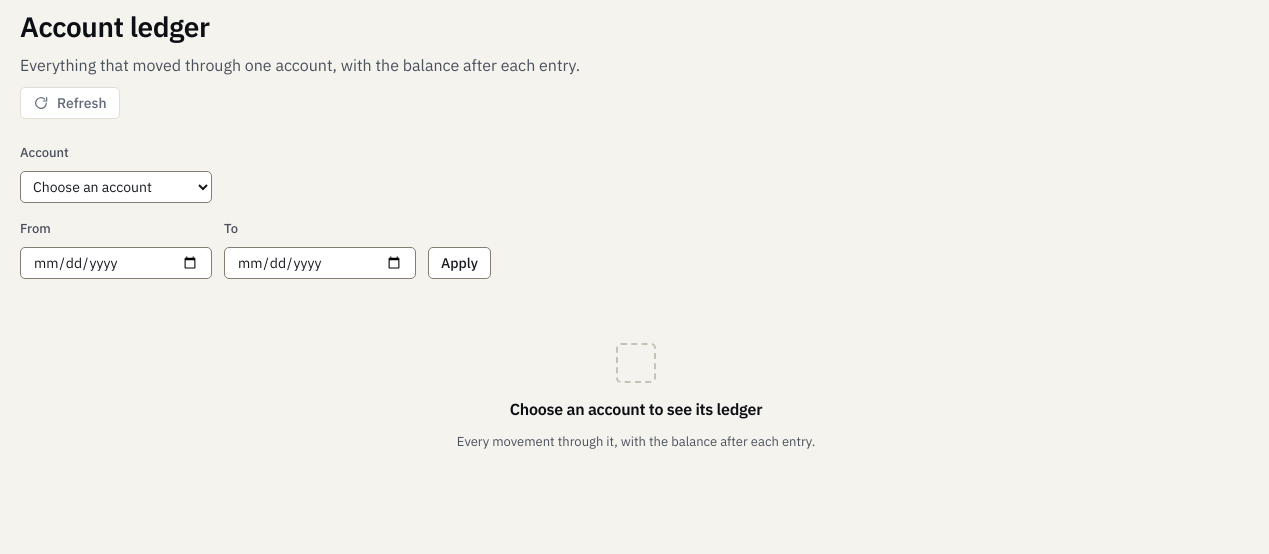
Scenario: AccountLedger › says so when nothing moved, and still shows the balance
Select "1210 · Bank Account" in the dropdown labelled "Account" at (116, 187), box [20,171,212,203]
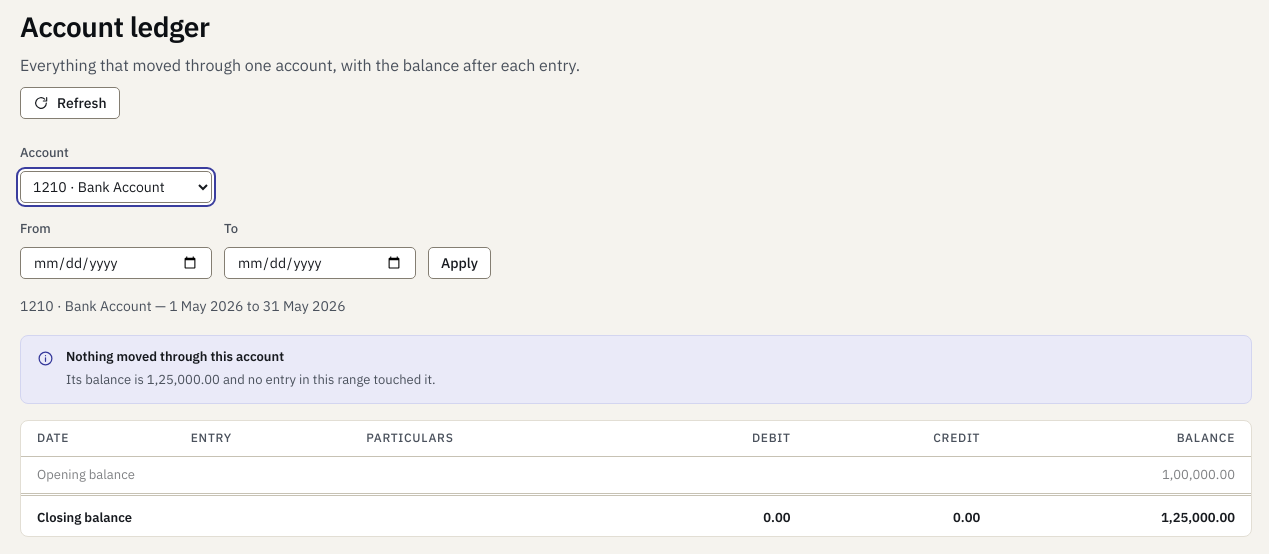
Expected: the text "Nothing moved through this account" is shown, [66,348,284,365]
Expected: the text "Opening balance" is shown, [21,457,996,495]
